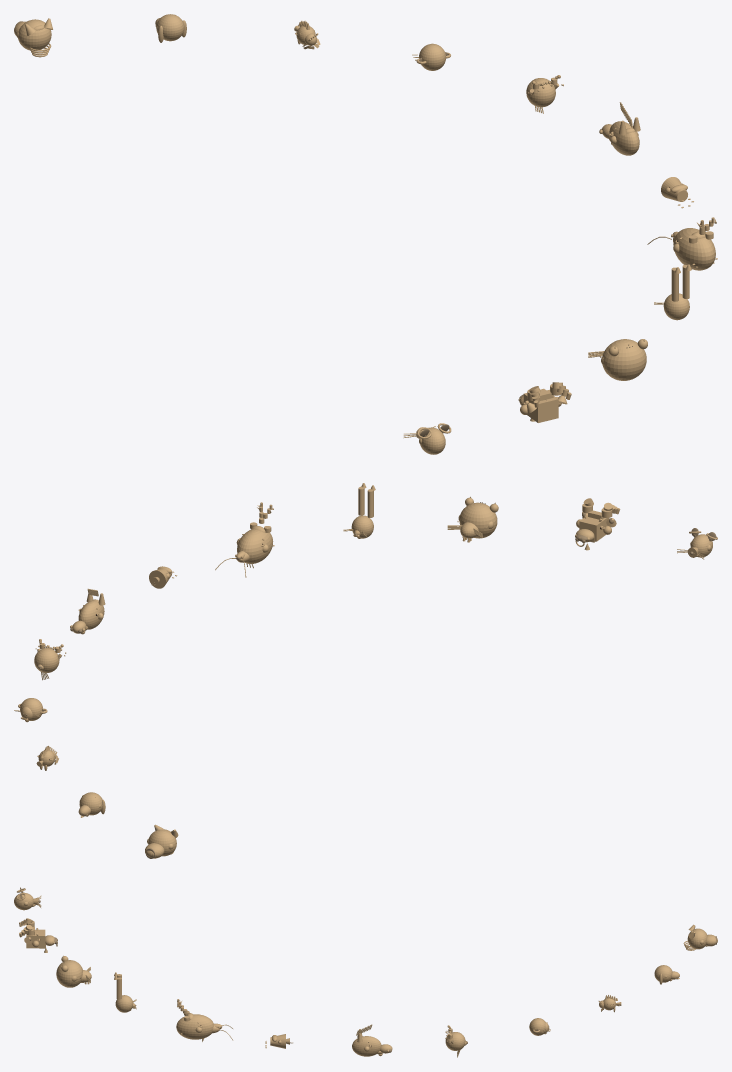
File: dashuifa_zodiac_ultra.glb
3 renders of one model, top to bottom at view 1: azimuth 30°, elevation 25°; view 2: azimuth 150°, elevation 25°; view 3: azimuth 270°, elevation 25°, orthographic. The views are drawn at different scales.
Visible parts, largest first — view 1: Tiger_Skull, Dragon_Skull, Pig_Skull; view 2: Tiger_Skull, Dragon_Skull; view 3: Dragon_Skull, Tiger_Skull, Horse_Skull, Pig_Skull, Sheep_Skull.
Boxes of the visible parts, <box> form: Tiger_Skull: <box>602,339,646,380</box>; Dragon_Skull: <box>673,228,715,270</box>; Pig_Skull: <box>18,19,51,50</box>; Tiger_Skull: <box>459,502,497,538</box>; Dragon_Skull: <box>237,529,273,563</box>; Dragon_Skull: <box>176,1014,213,1039</box>; Tiger_Skull: <box>56,960,82,987</box>; Horse_Skull: <box>352,1036,381,1056</box>; Pig_Skull: <box>687,928,707,949</box>; Sheep_Skull: <box>445,1032,465,1050</box>.
Size of the model in its own units: 10.66 by 1.43 by 20.54.
